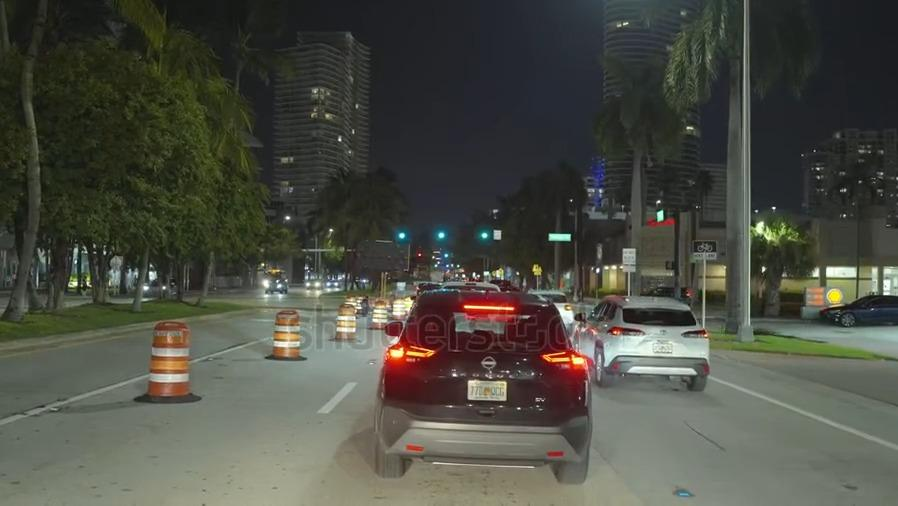bus: (262, 267, 285, 285)
car: (385, 291, 592, 481), (574, 293, 707, 390), (825, 291, 898, 330), (544, 289, 576, 323), (649, 281, 691, 302), (141, 276, 179, 296), (264, 280, 289, 294), (304, 276, 323, 289), (326, 278, 340, 288)
cone: (146, 319, 192, 400), (268, 307, 301, 359), (333, 300, 355, 340), (369, 298, 387, 331), (388, 295, 403, 319), (402, 295, 412, 312)
traffic light: (428, 223, 451, 247), (470, 225, 495, 246), (392, 227, 411, 243)
